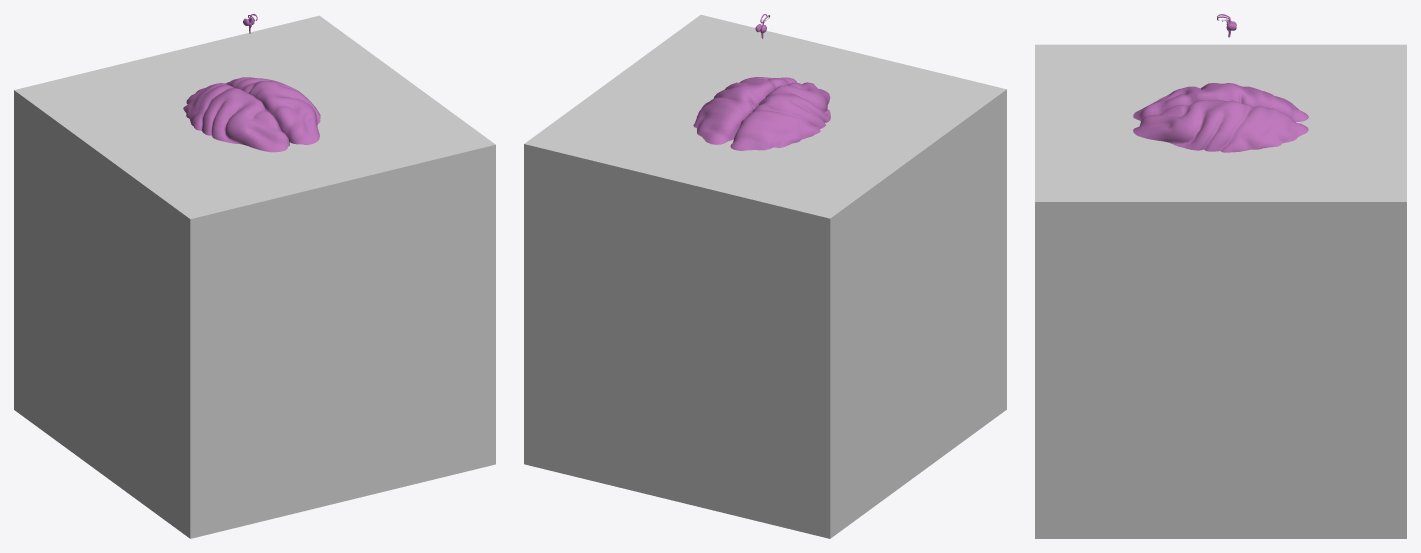
The model's file is brain.glb.
3 renders of one model, left to right at view 1: azimuth 30°, elevation 25°; view 2: azimuth 150°, elevation 25°; view 3: azimuth 270°, elevation 25°, orthographic. The views are drawn at different scales.
Parts seen in each view (by area): view 1: Cube, V1_1:jianmian_03:Group1; view 2: Cube, V1_1:jianmian_03:Group1; view 3: Cube, V1_1:jianmian_03:Group1.
Boxes of the visible parts, x1=… form: Cube: x1=14, y1=15, x2=495, y2=538; V1_1:jianmian_03:Group1: x1=183, y1=77, x2=320, y2=152; Cube: x1=524, y1=15, x2=1006, y2=538; V1_1:jianmian_03:Group1: x1=693, y1=77, x2=830, y2=150; Cube: x1=1035, y1=44, x2=1406, y2=538; V1_1:jianmian_03:Group1: x1=1133, y1=83, x2=1308, y2=152.
Size of the model in its own units: 2 by 2.64 by 2.
